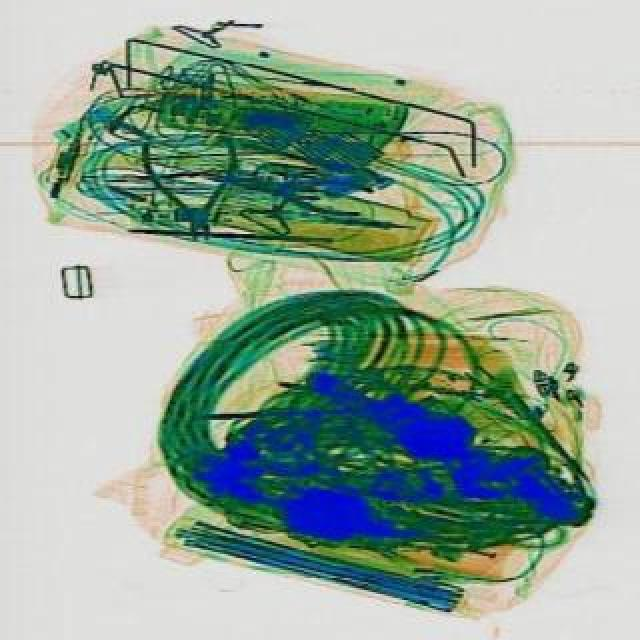wrench: (138, 130, 240, 242), (200, 156, 372, 220)
